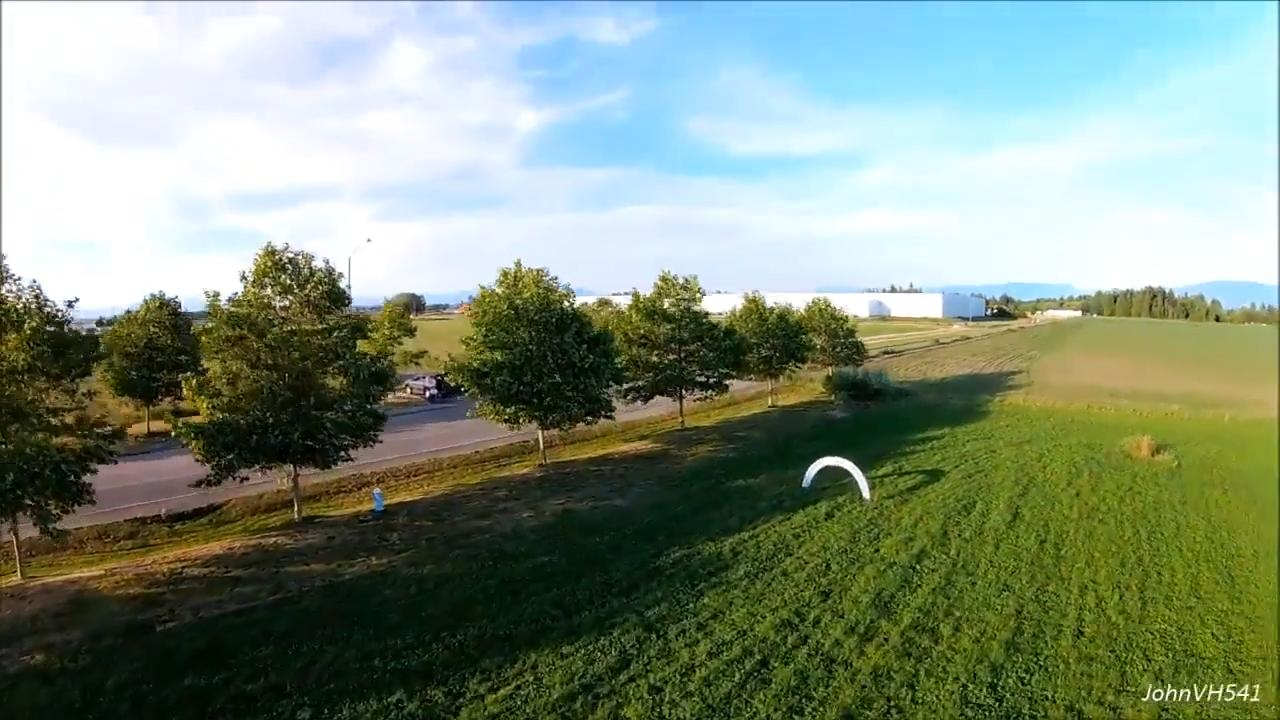gate: (799, 456, 872, 500)
